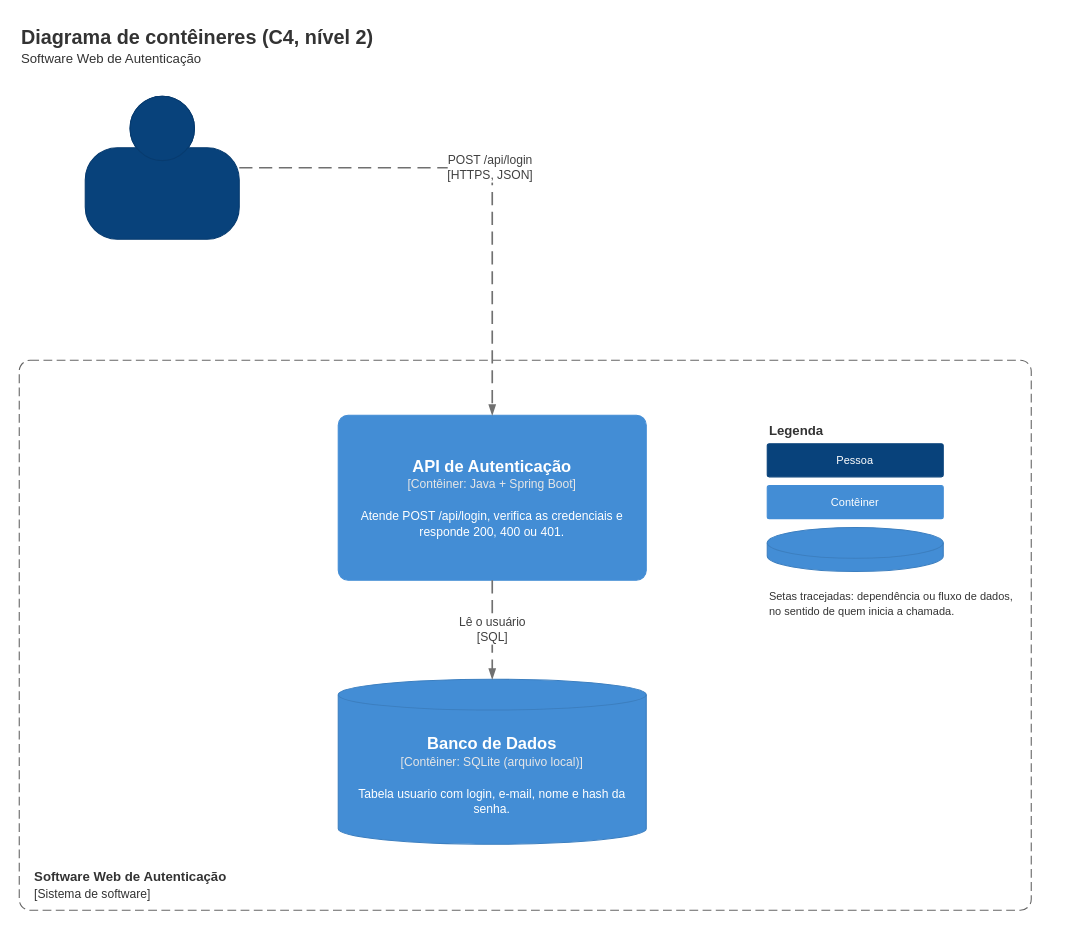
The diagram is 1073 pixels wide and 930 high, and some of its shapes have lost their labels. Here are the shapes that lost their labels. From the top down, the centre of each, then its label:
At point (161, 167): "Usuário [Pessoa]".
At point (854, 548): "Banco de dados".
